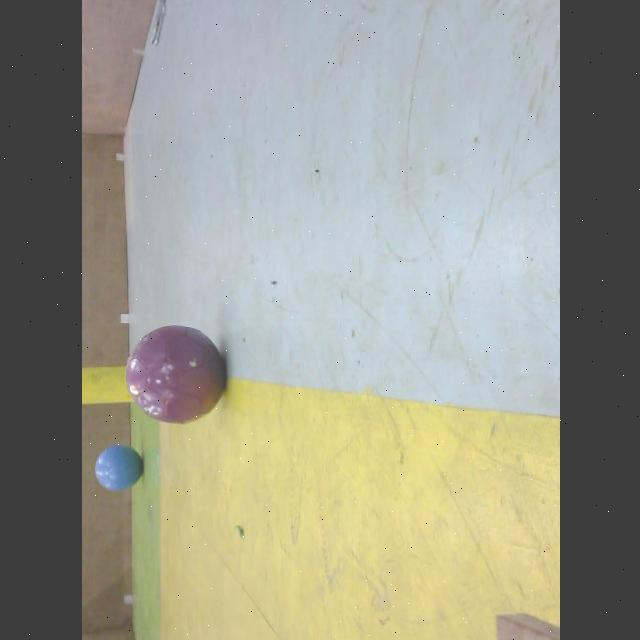B: (94, 446, 140, 490)
P: (123, 324, 227, 424)
